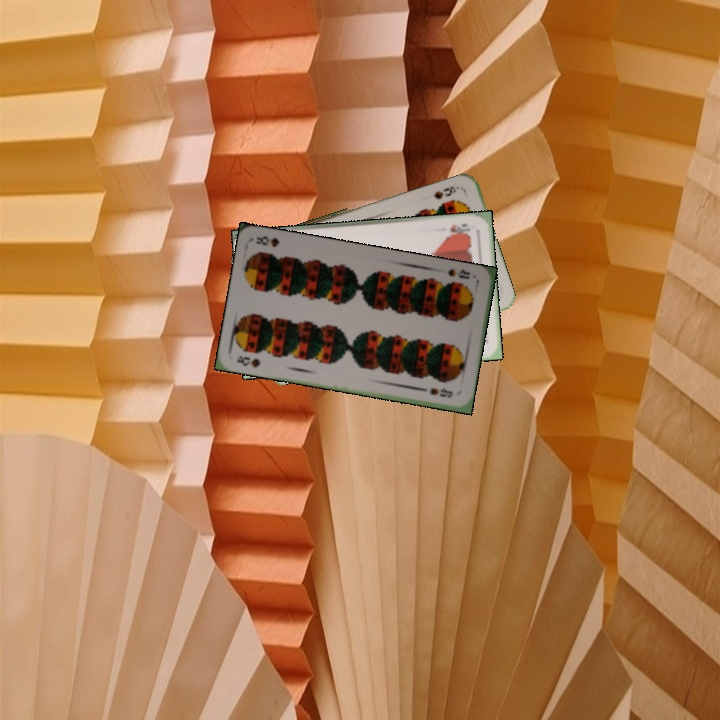HO: (446, 220, 472, 236)
S8: (430, 182, 462, 202), (233, 352, 263, 370), (443, 265, 473, 282)
